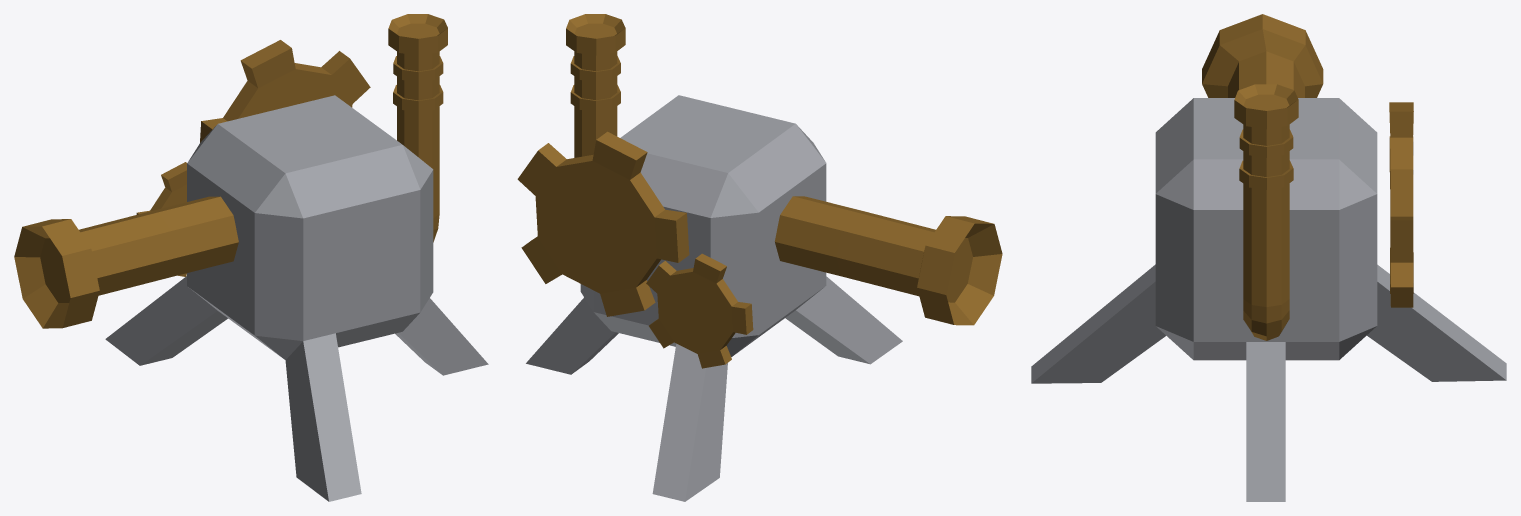
The model's file is gun.fbx.
3 renders of one model, left to right at view 1: azimuth 30°, elevation 25°; view 2: azimuth 150°, elevation 25°; view 3: azimuth 270°, elevation 25°, orthographic. The views are drawn at different scales.
Parts seen in each view (by area): view 1: Torre, Roda, Roda 2; view 2: Torre, Roda, Roda 2; view 3: Torre, Roda.
Boxes of the visible parts, x1=… form: Torre: x1=14, y1=14, x2=488, y2=501; Roda: x1=200, y1=40, x2=370, y2=142; Roda 2: x1=136, y1=162, x2=186, y2=276; Torre: x1=526, y1=14, x2=1002, y2=501; Roda: x1=517, y1=131, x2=689, y2=316; Roda 2: x1=646, y1=253, x2=753, y2=368; Torre: x1=1031, y1=14, x2=1506, y2=501; Roda: x1=1389, y1=102, x2=1413, y2=307.
Bounding box in the file's own units: 133 × 100 × 116.
